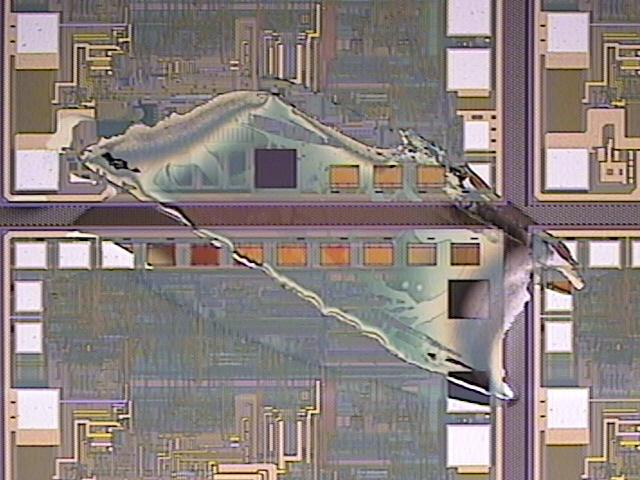BLOCK ETCH: (44, 68, 588, 416)
